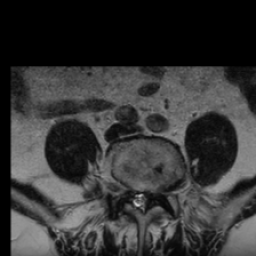CCS_normal: (137, 188, 145, 217)
LFS_severe_stenosis: (153, 188, 159, 207)
LLS_severe_stenosis: (145, 189, 152, 209)
RFS_normal: (125, 184, 133, 205)
RLS_normal: (132, 189, 138, 210)
